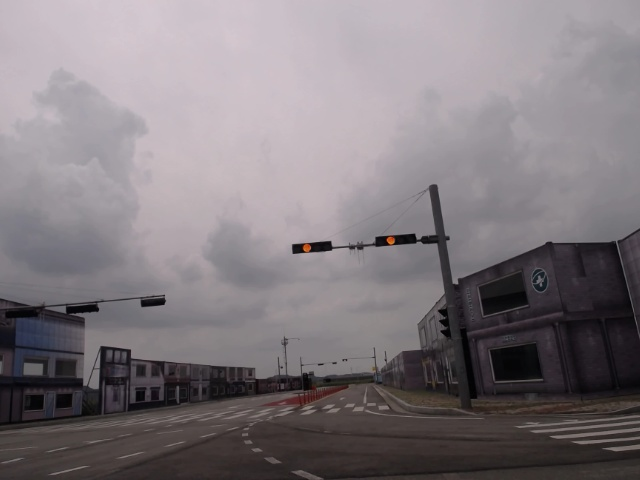orange_4: (373, 233, 418, 249), (290, 240, 334, 256)
